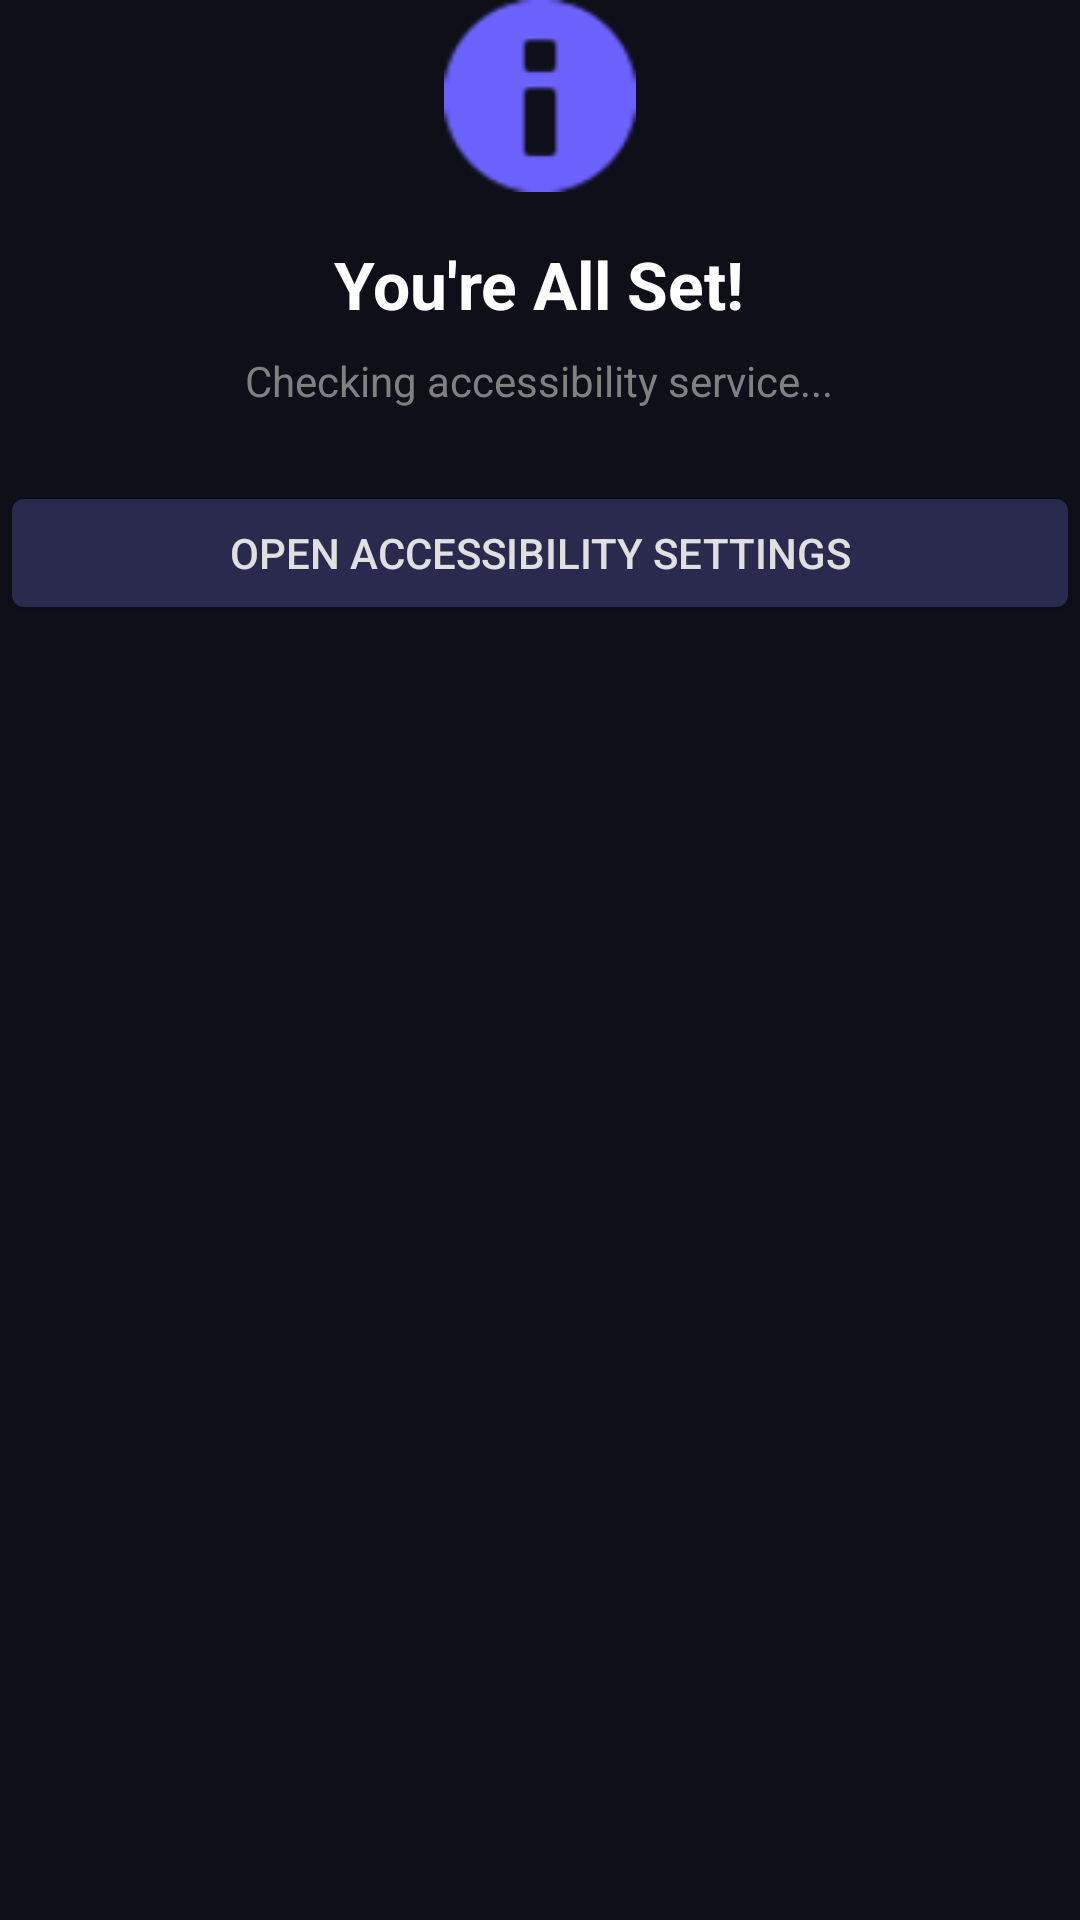

Point at icon controls on the screen. Image size 1080*1920, points as (x=x, y=y).
info: (x=540, y=96)
